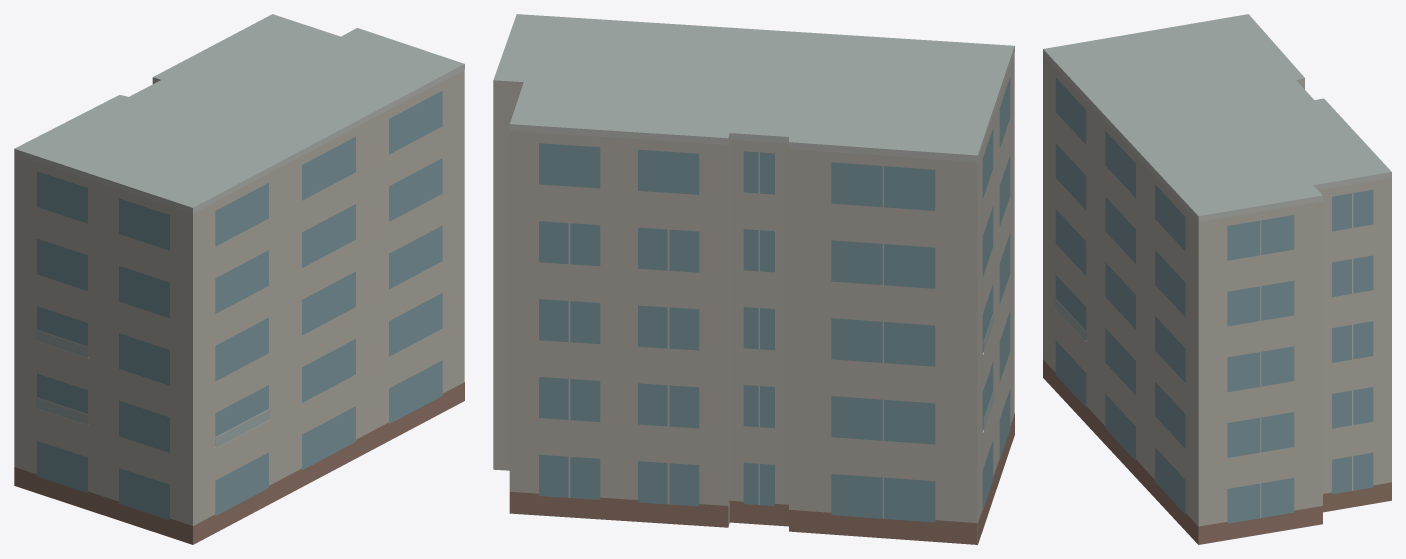
Rendered from survey-upis-32882449.glb.
3 renders of one model, left to right at view 1: azimuth 30°, elevation 25°; view 2: azimuth 150°, elevation 25°; view 3: azimuth 270°, elevation 25°, orthographic. The views are drawn at different scales.
Parts seen in each view (by area): view 1: survey-upis-32882449.tmp; view 2: survey-upis-32882449.tmp; view 3: survey-upis-32882449.tmp.
Boxes of the visible parts, left/top/right/bottom form: survey-upis-32882449.tmp: left=14, top=14, right=464, bottom=544; survey-upis-32882449.tmp: left=493, top=14, right=1014, bottom=544; survey-upis-32882449.tmp: left=1043, top=14, right=1391, bottom=544.
Size of the model in its own units: 18.87 by 14.3 by 13.76.
